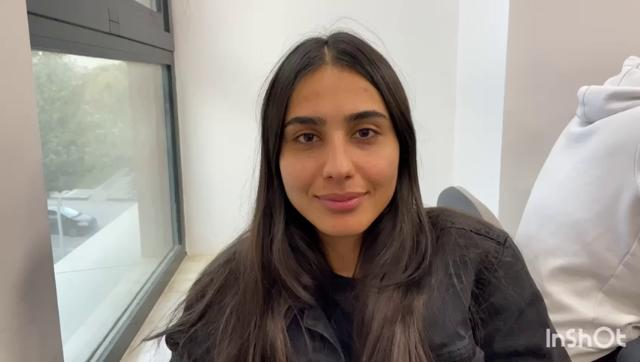senang: (276, 62, 401, 222)
